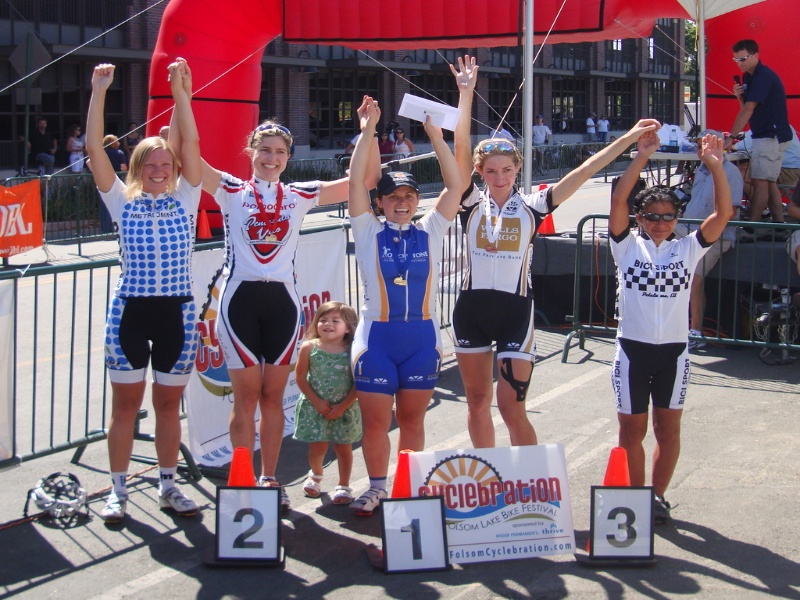person: (586, 96, 729, 534), (85, 64, 199, 520), (454, 51, 571, 476), (345, 97, 453, 505), (199, 78, 299, 508), (728, 36, 788, 233), (304, 294, 360, 504), (691, 125, 742, 351)
